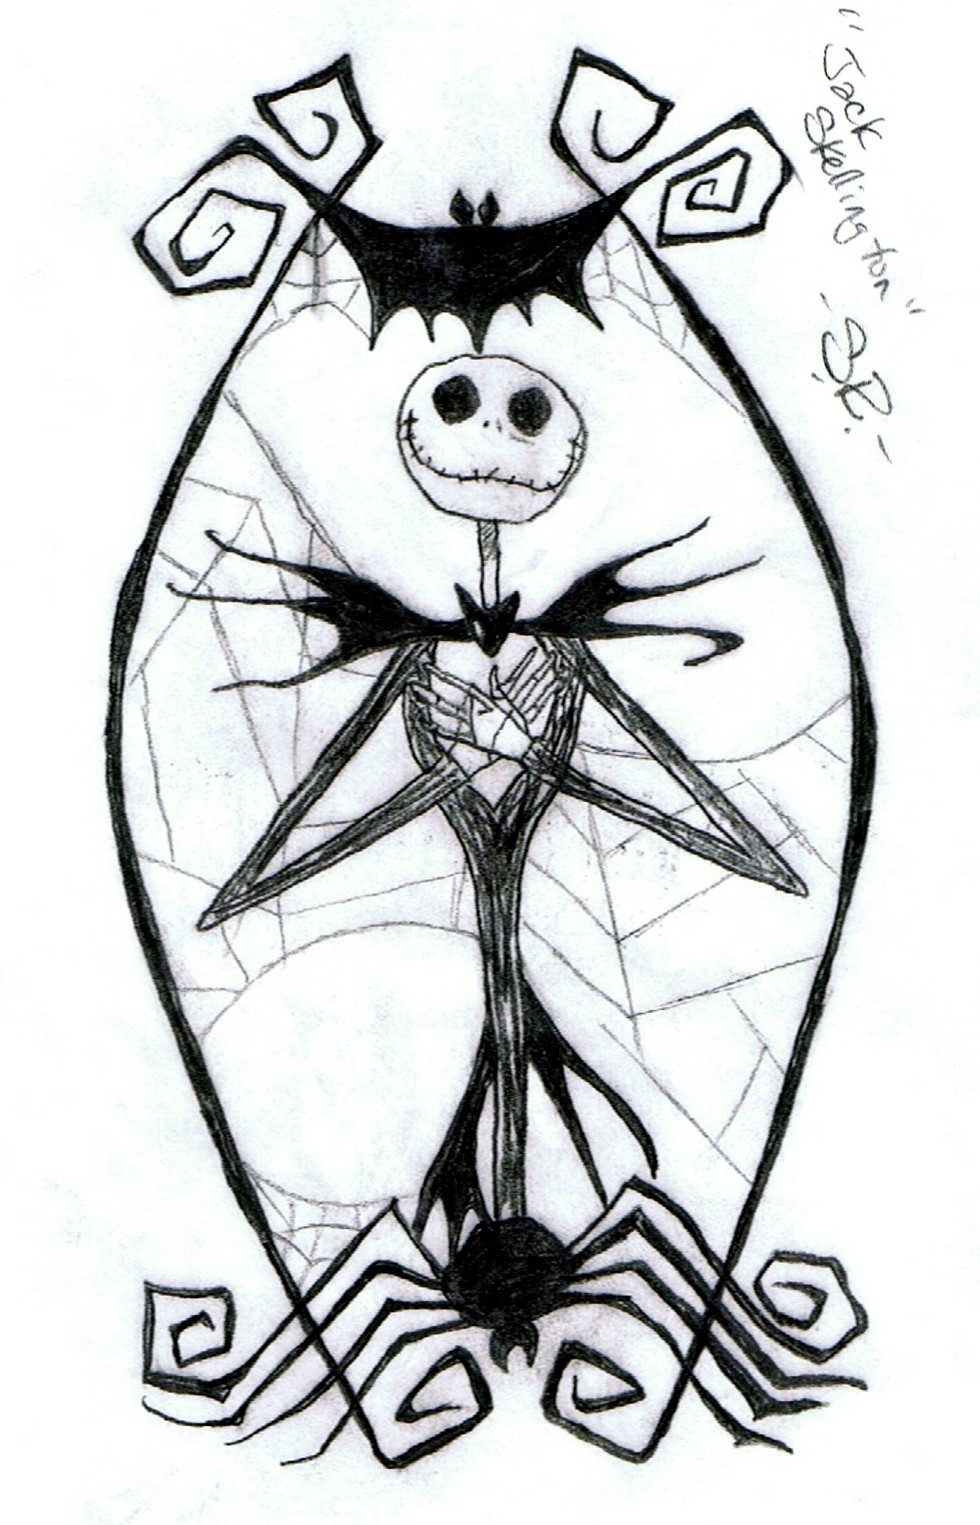Jack Skellington: (193, 351, 814, 1253)
